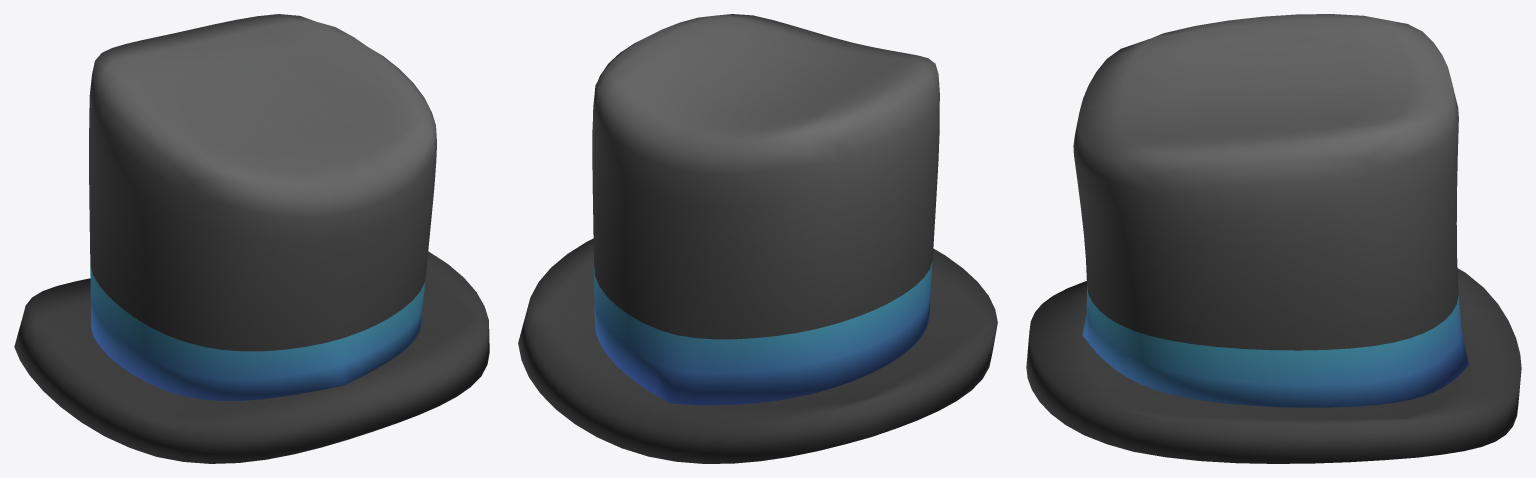
File: hat6.fbx
3 renders of one model, left to right at view 1: azimuth 30°, elevation 25°; view 2: azimuth 150°, elevation 25°; view 3: azimuth 270°, elevation 25°, orthographic. The views are drawn at different scales.
Visible parts, largest first — view 1: Plane.012; view 2: Plane.012; view 3: Plane.012.
Boxes of the visible parts, <box> form: Plane.012: <box>14,14,489,463</box>; Plane.012: <box>518,14,997,463</box>; Plane.012: <box>1026,14,1521,463</box>.
Bounding box in the file's own units: 275 × 272 × 203.
